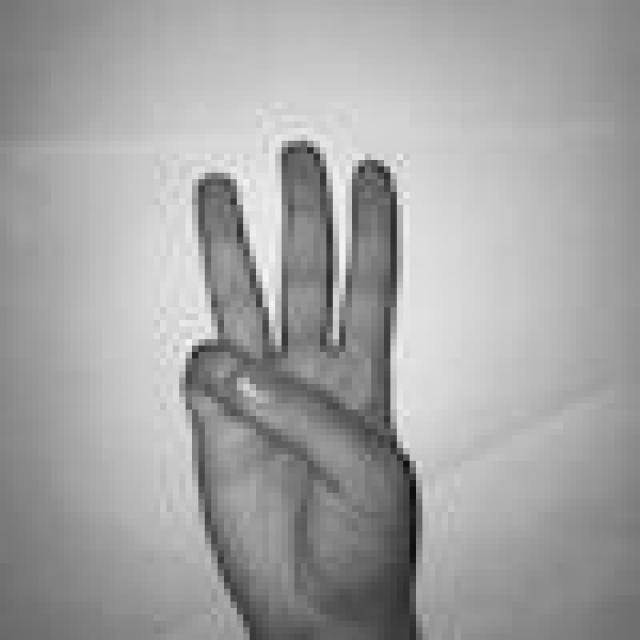W: (179, 131, 442, 624)
